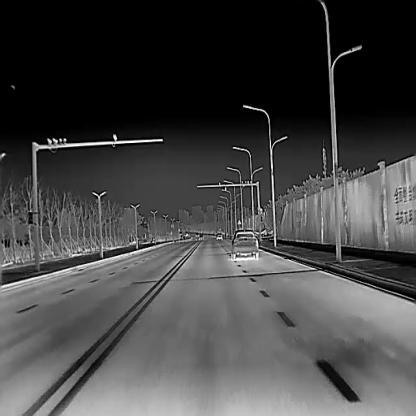car: (231, 228, 259, 259), (215, 233, 222, 241)
